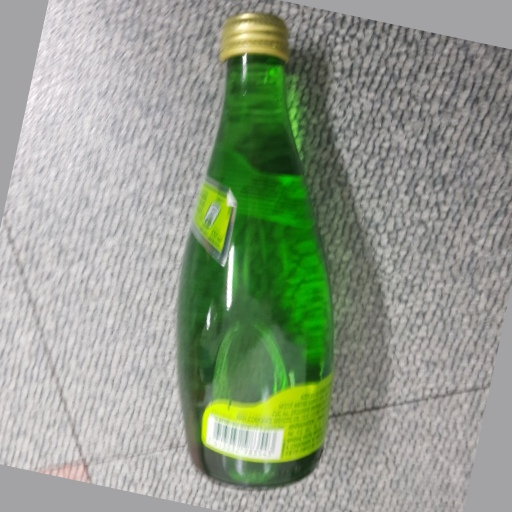Glass_4: (168, 8, 342, 492)
